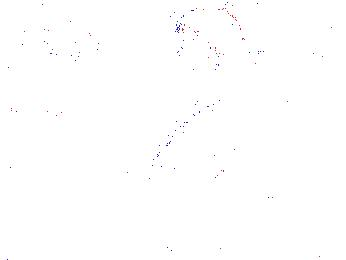moon jellyfish: (149, 100, 241, 193), (239, 3, 342, 55), (1, 109, 72, 184), (177, 7, 243, 68), (20, 10, 105, 57)
